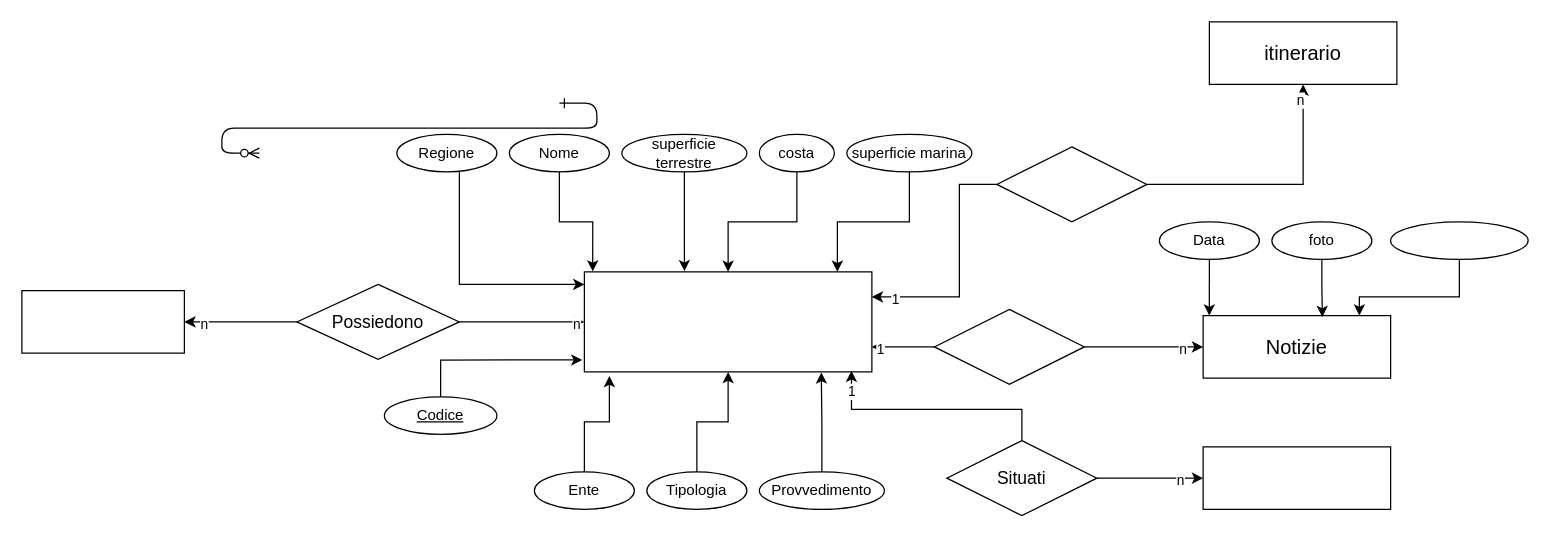
Some shapes in this 1550 by 538 pixel diagram are drawn without their labels. The centre of each missing label's shape, as x and y in pixels:
"Aggiornati" belongs at (1008,346).
"Certificazioni" belongs at (102,321).
"Definito" belongs at (1071,184).
"Parchi" belongs at (727,321).
"Struttura ricettiva" belongs at (1296,477).
"testo informativo" belongs at (1458,240).
